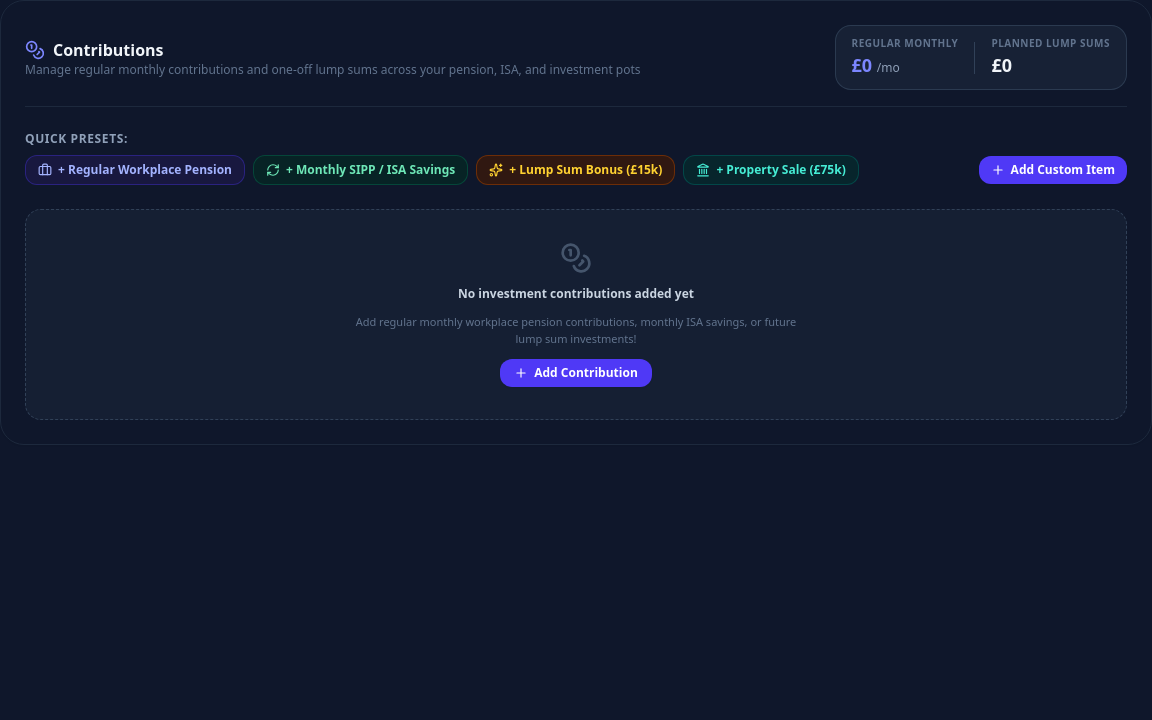
InvestmentContributionManager › displays HMRC pension tax relief breakdown on SIPP contributions
The width and height of the screenshot is (1152, 720).
Note: Click custom item
Click the button "Add Custom Item" at x=1053, y=170, box 979,156 -> 1127,184
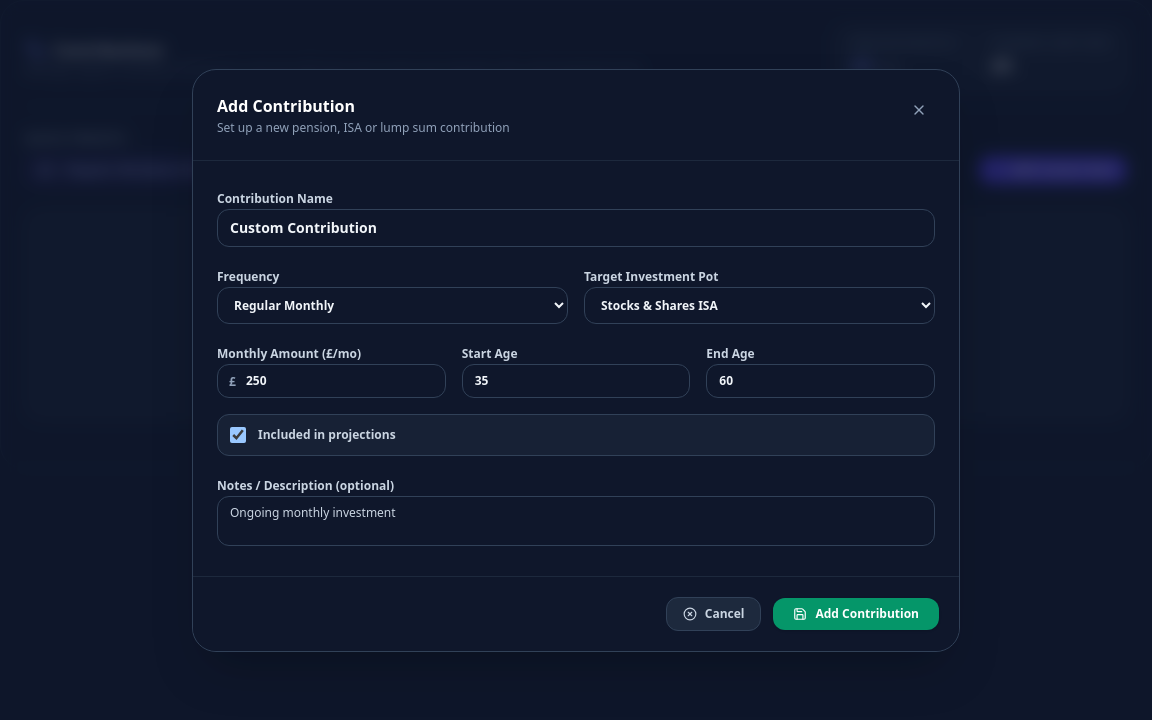
Note: Switch pot to SIPP
Select "Personal Pension / SIPP" in the dropdown showing "Stocks & Shares ISA" below "Target Investment Pot" at x=760, y=305, box 584,286 -> 935,324
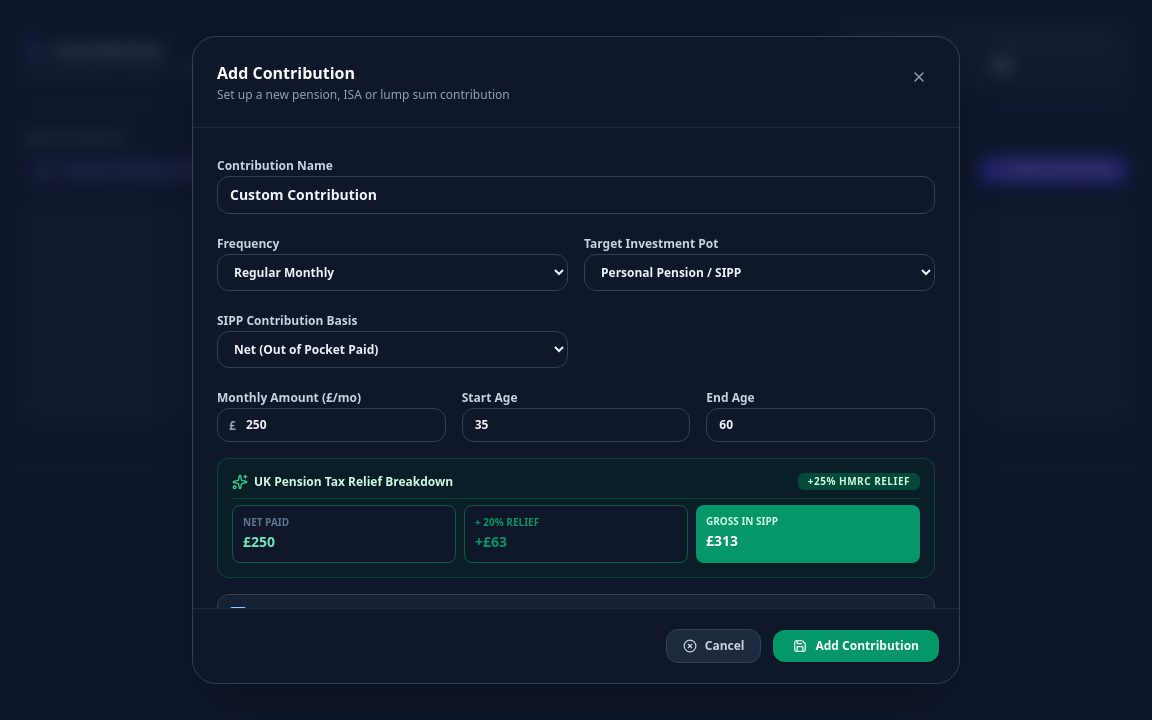
Expected: the text "SIPP Contribution Basis" is shown, 217,312 -> 357,329
Expected: the text "UK Pension Tax Relief Breakdown" is shown, 232,474 -> 453,490
Expected: the text "+25% HMRC Relief" is shown, 798,473 -> 920,490
Note: Switch basis to gross
Select "Gross (Total added to SIPP)" in the dropdown showing "Net (Out of Pocket Paid)" below "SIPP Contribution Basis" at x=392, y=350, box 217,331 -> 568,368
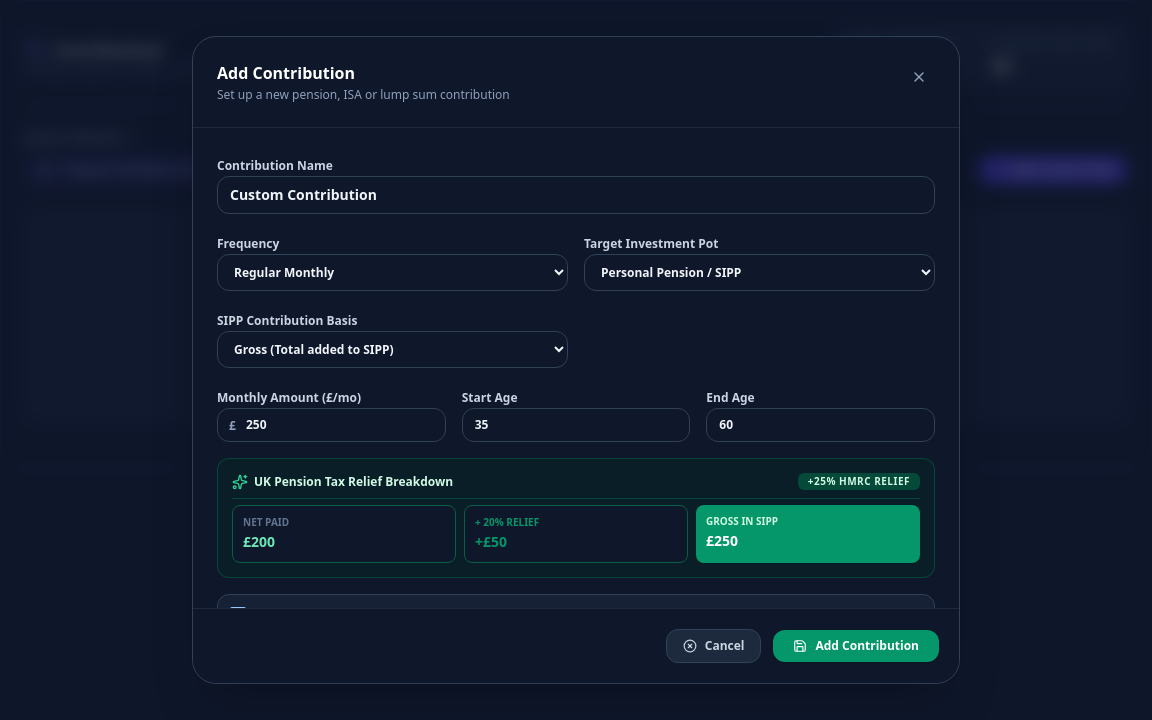
Expected: the text "£200" is shown, 243,532 -> 275,551
Expected: the text "+£50" is shown, 475,532 -> 507,551
Expected: the text "£250" is shown, 706,531 -> 738,550
